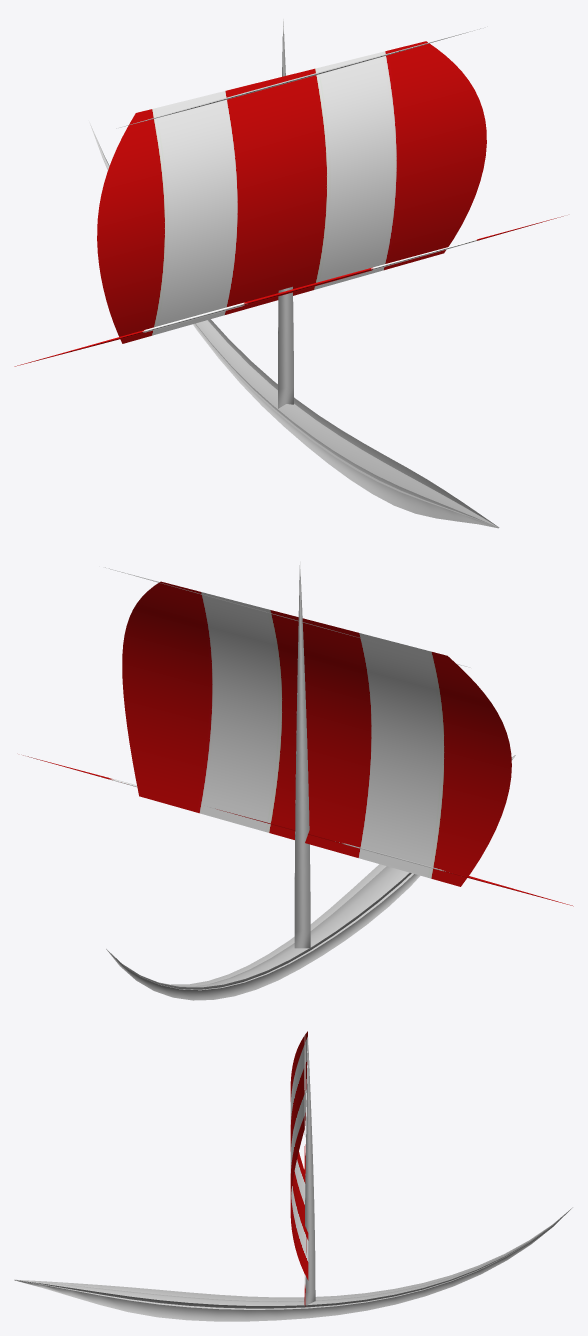
The model's file is boat.obj.
The picture shows the model from 3 angles, top to bottom: view 1: azimuth 30°, elevation 25°; view 2: azimuth 150°, elevation 25°; view 3: azimuth 270°, elevation 25°; orthographic projection. The views are drawn at different scales.
Parts seen in each view (by area): view 1: sail, hull, deck, mast, bottomsail, topsail; view 2: sail, hull, mast, deck, bottomsail; view 3: hull, sail, deck, mast.
Part boxes in pixels (left/top/right/bottom): sail: left=97, top=41, right=486, bottom=343; hull: left=92, top=128, right=499, bottom=528; deck: left=89, top=122, right=498, bottom=527; mast: left=278, top=19, right=293, bottom=408; bottomsail: left=14, top=216, right=563, bottom=366; topsail: left=116, top=28, right=480, bottom=128; sail: left=122, top=581, right=511, bottom=886; hull: left=106, top=755, right=514, bottom=1000; mast: left=294, top=561, right=310, bottom=948; deck: left=140, top=755, right=515, bottom=990; bottomsail: left=23, top=755, right=573, bottom=906; hull: left=14, top=1207, right=572, bottom=1321; sail: left=290, top=1031, right=308, bottom=1280; deck: left=14, top=1213, right=565, bottom=1309; mast: left=304, top=1038, right=315, bottom=1305.
Bounding box in the file's own units: 14.99 × 10.66 × 19.04.
